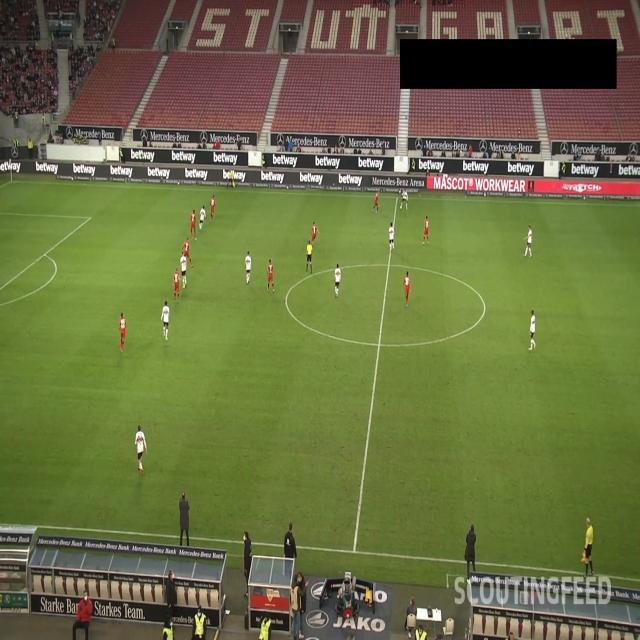ball: (399, 204, 403, 210)
